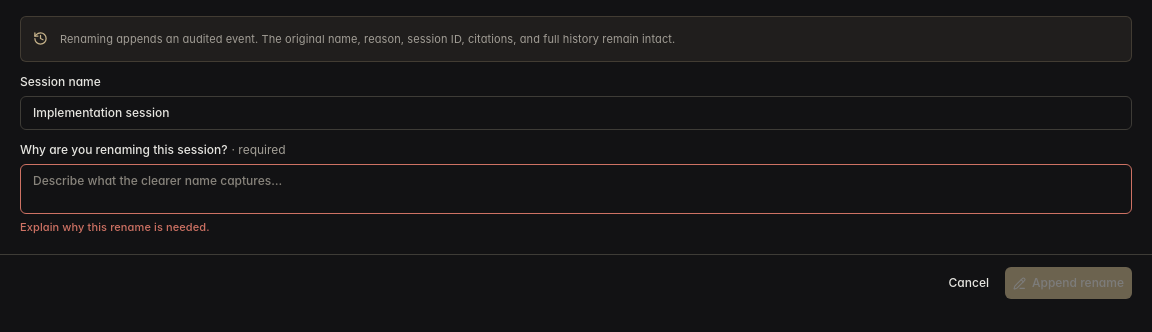
Test case: session rename validation › explains missing name and reason without submitting
This screenshot has width=1152, height=332.
Clear the field labelled "Session name" at [576, 113], box top-left (20, 96), bottom-right (1132, 130)
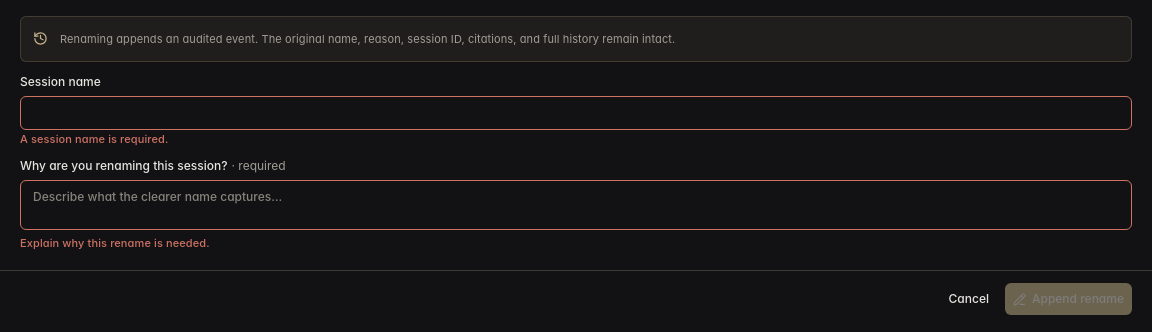
Expected: the button "Append rename" is disabled, top-left (1005, 283), bottom-right (1132, 315)
Expected: the number of messages is 2, top-left (20, 132), bottom-right (168, 146); top-left (20, 236), bottom-right (210, 250)
